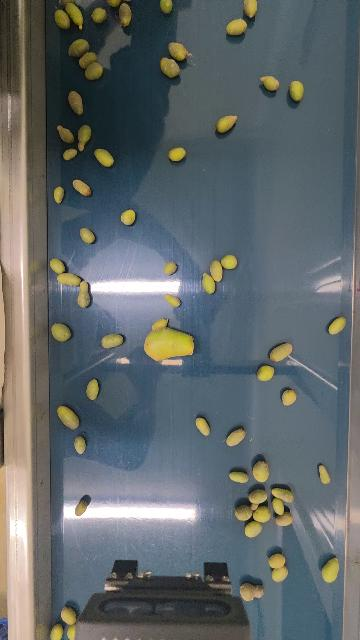Baby Potato: (140, 328, 194, 361), (57, 404, 80, 431), (65, 4, 86, 30), (235, 502, 261, 522), (321, 557, 340, 584), (239, 583, 263, 603), (155, 58, 183, 75), (168, 39, 188, 62), (270, 343, 294, 362), (216, 113, 237, 134), (193, 416, 213, 437), (224, 428, 247, 446), (51, 10, 71, 30), (57, 272, 82, 288), (51, 321, 70, 342), (225, 19, 248, 36), (116, 3, 133, 26), (100, 333, 124, 349), (94, 148, 114, 167), (243, 519, 263, 538), (77, 49, 98, 67), (70, 179, 92, 196), (77, 279, 89, 310), (166, 147, 189, 163), (200, 272, 216, 295), (69, 39, 89, 57), (253, 458, 268, 482), (77, 124, 90, 151), (209, 258, 223, 283), (80, 63, 103, 78), (68, 91, 83, 114), (272, 488, 295, 503), (288, 80, 304, 101), (268, 566, 289, 582), (56, 125, 74, 143), (329, 316, 346, 335), (256, 75, 279, 89), (257, 366, 277, 382), (266, 554, 287, 569), (273, 512, 294, 527), (220, 254, 238, 271), (253, 506, 271, 523), (271, 496, 287, 515), (281, 388, 297, 407), (86, 376, 98, 401), (79, 226, 95, 244), (229, 469, 247, 485), (247, 490, 269, 503), (163, 293, 182, 308), (317, 465, 331, 485), (61, 607, 76, 625), (90, 8, 107, 23), (244, 0, 258, 18), (52, 187, 65, 206), (120, 209, 135, 225), (50, 258, 65, 274), (162, 260, 177, 276), (48, 623, 62, 640), (74, 435, 85, 456), (151, 319, 170, 331), (74, 500, 87, 517), (62, 148, 77, 160), (159, 1, 174, 12), (67, 625, 76, 640), (107, 0, 121, 7)
